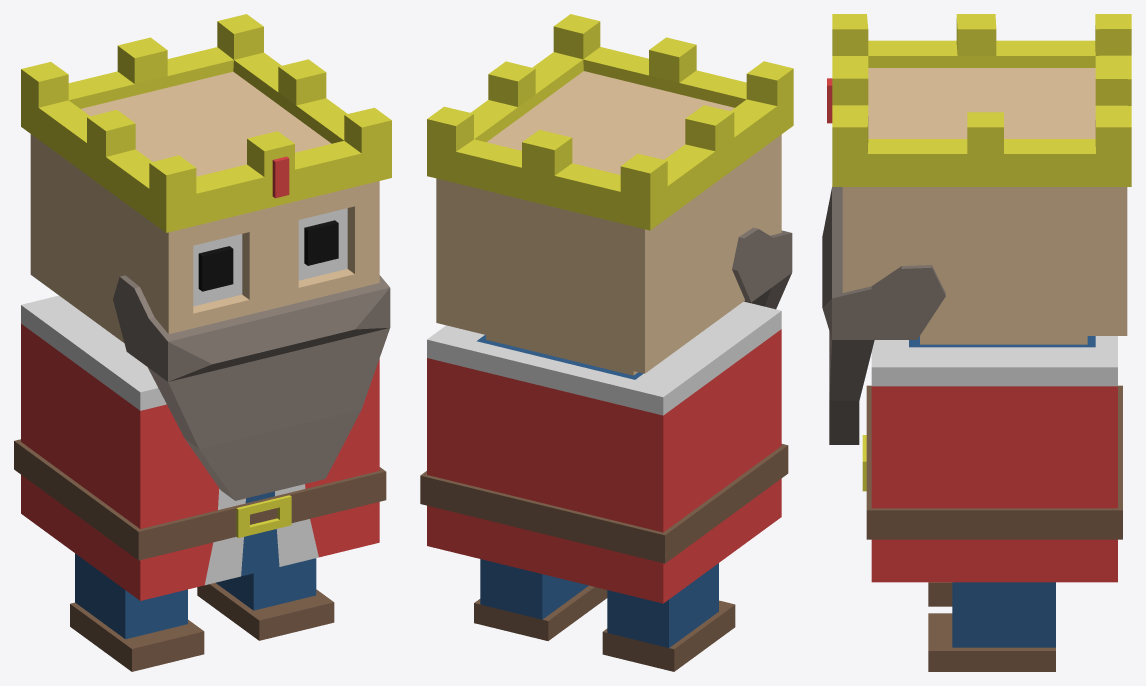
The model's file is Player_King_Stade4.fbx.
3 renders of one model, left to right at view 1: azimuth 30°, elevation 25°; view 2: azimuth 150°, elevation 25°; view 3: azimuth 270°, elevation 25°, orthographic. The views are drawn at different scales.
Visible parts, largest first — view 1: Player_King_Stade4; view 2: Player_King_Stade4; view 3: Player_King_Stade4.
Boxes of the visible parts, x1,y1,x2,y2 form: Player_King_Stade4: (14, 14, 391, 671); Player_King_Stade4: (420, 14, 793, 671); Player_King_Stade4: (822, 14, 1131, 671).
Bounding box in the file's own units: 79.28 × 163 × 83.17.
